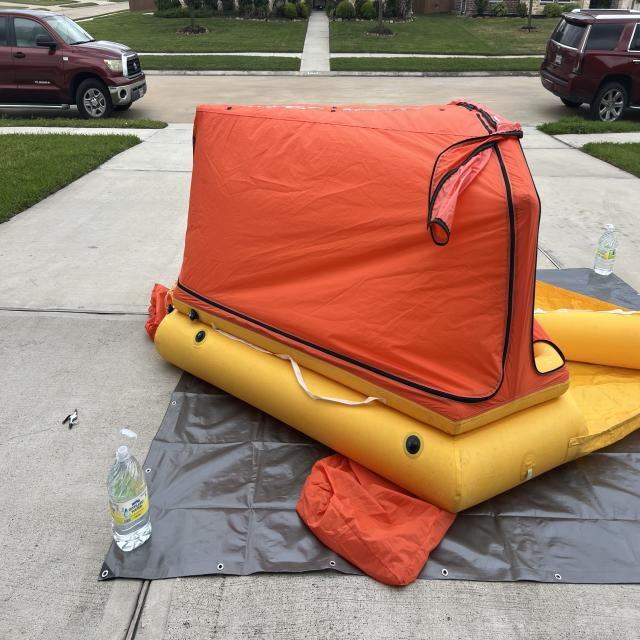Multi-person_life_raft: (145, 103, 640, 587)
